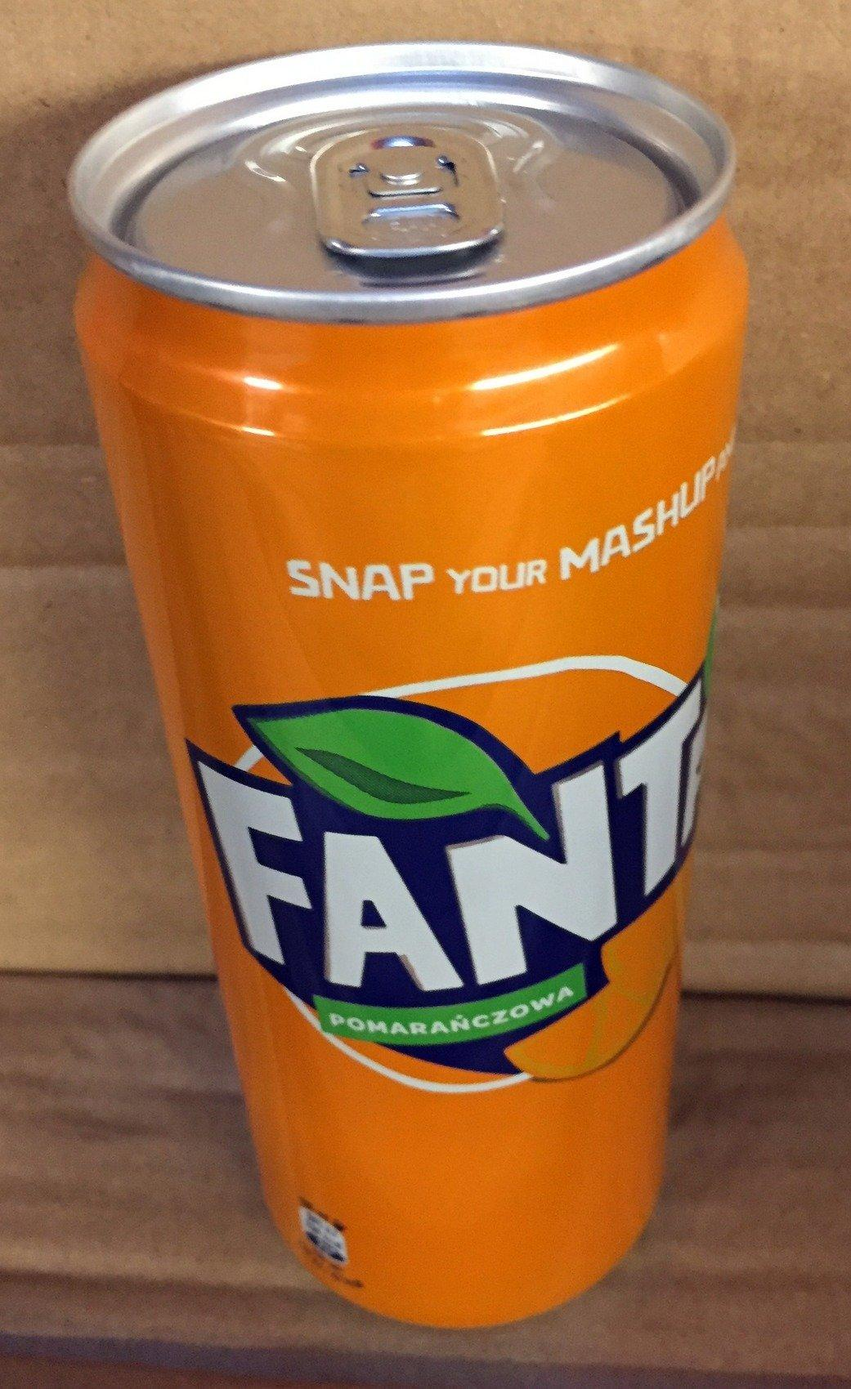metal: (68, 41, 747, 1329)
